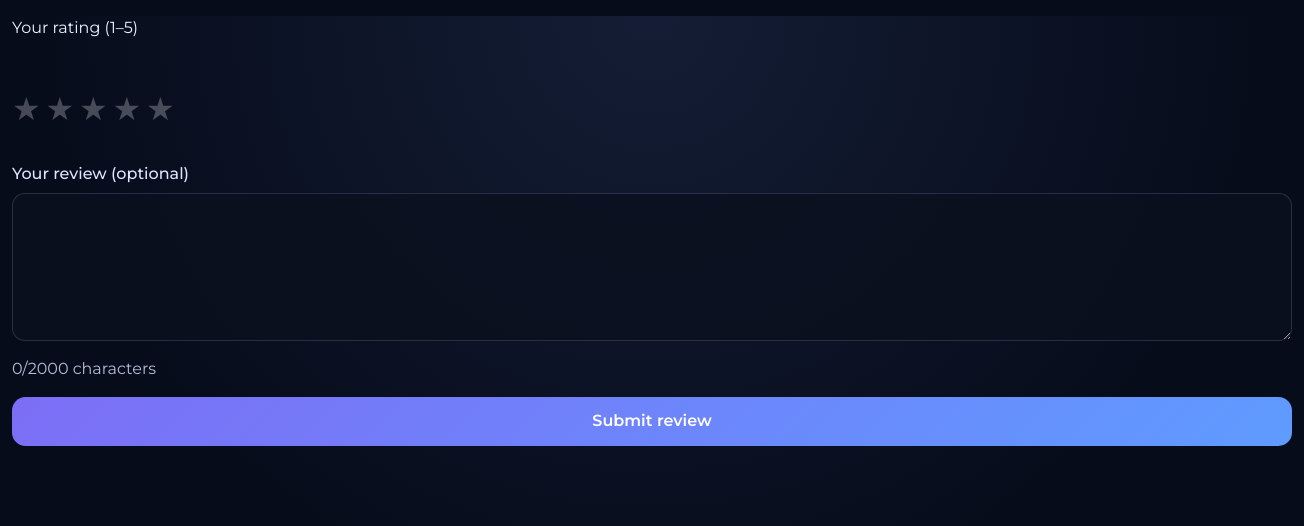
[TC-FE-REVIEW-02] validates a rating and keeps a failed draft for retry
The image size is (1304, 526).
Click the button "Submit review": (652, 421) [12,397,1292,446]
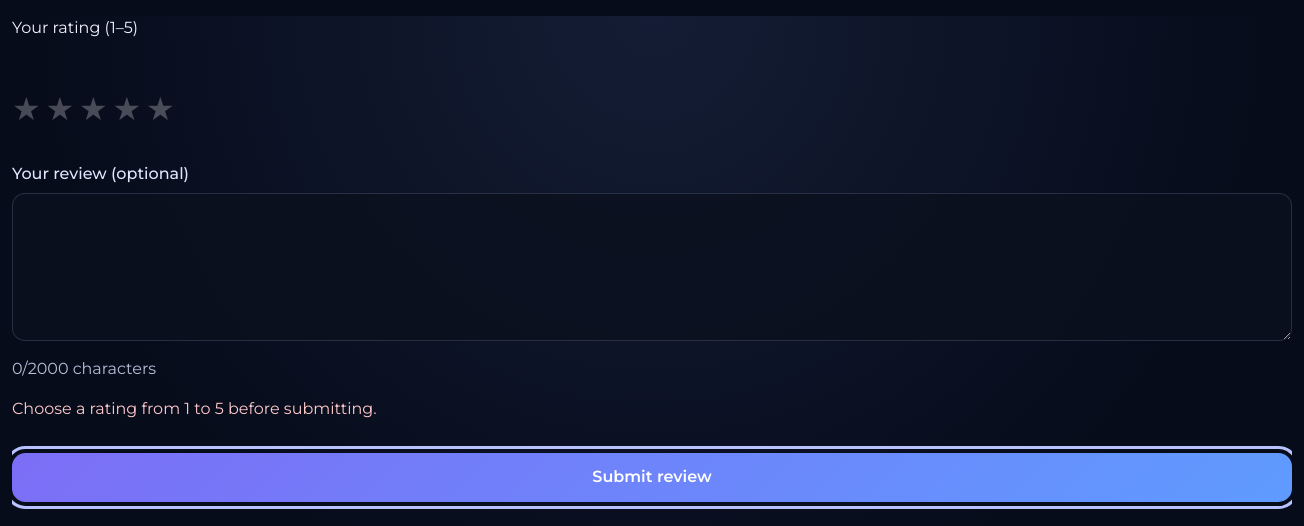
Now the message shows "Choose a rating", box [12,399,377,418]
Click the button named "Rate 5 stars": (160, 109) [146,85,175,133]
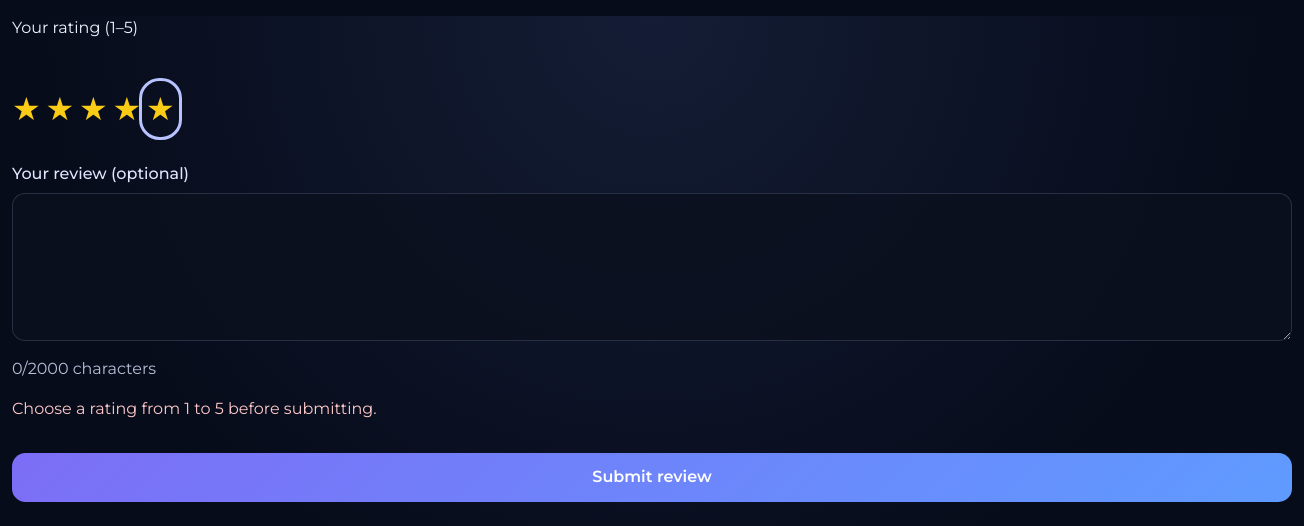
In the text box: (652, 267) [12,193,1292,341], type "  Loved it  "
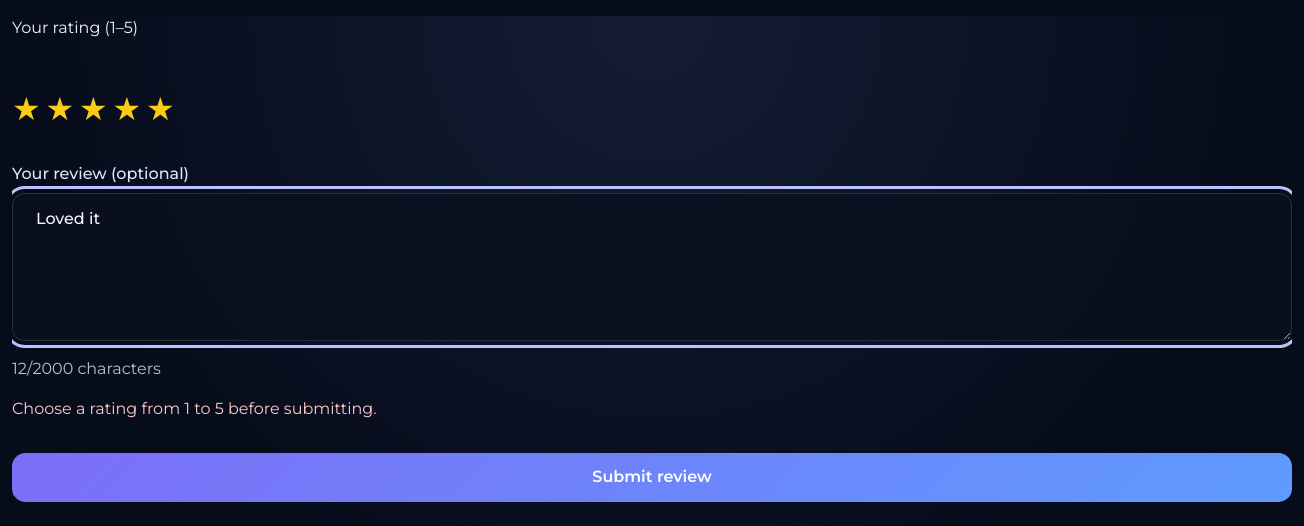
Click the button "Submit review": (652, 477) [12,453,1292,502]
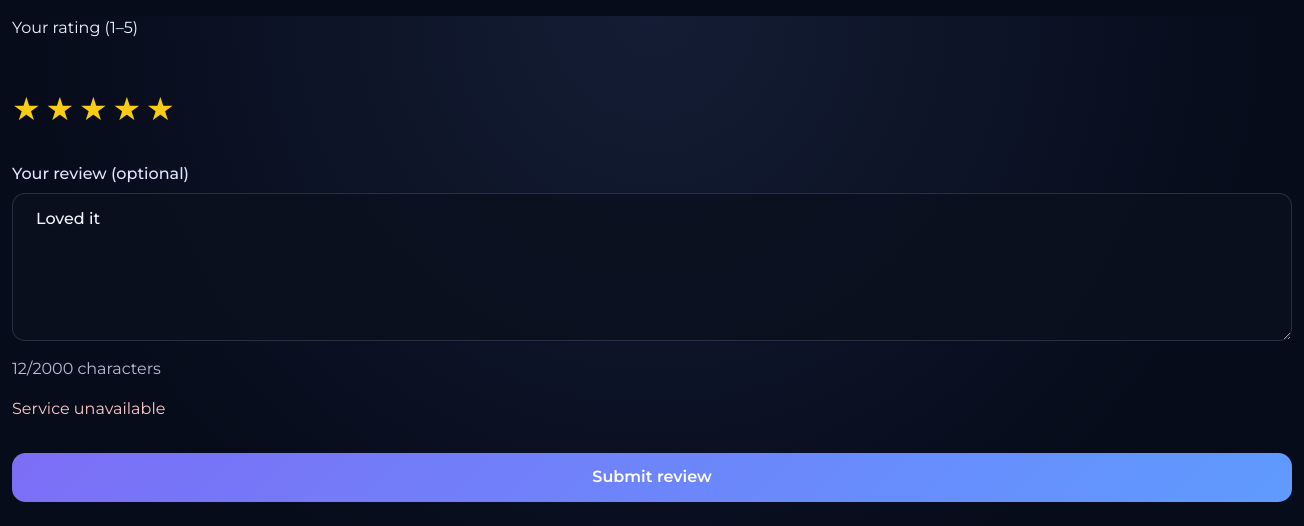
Now the message reads "Service unavailable", box [12,399,165,418]
